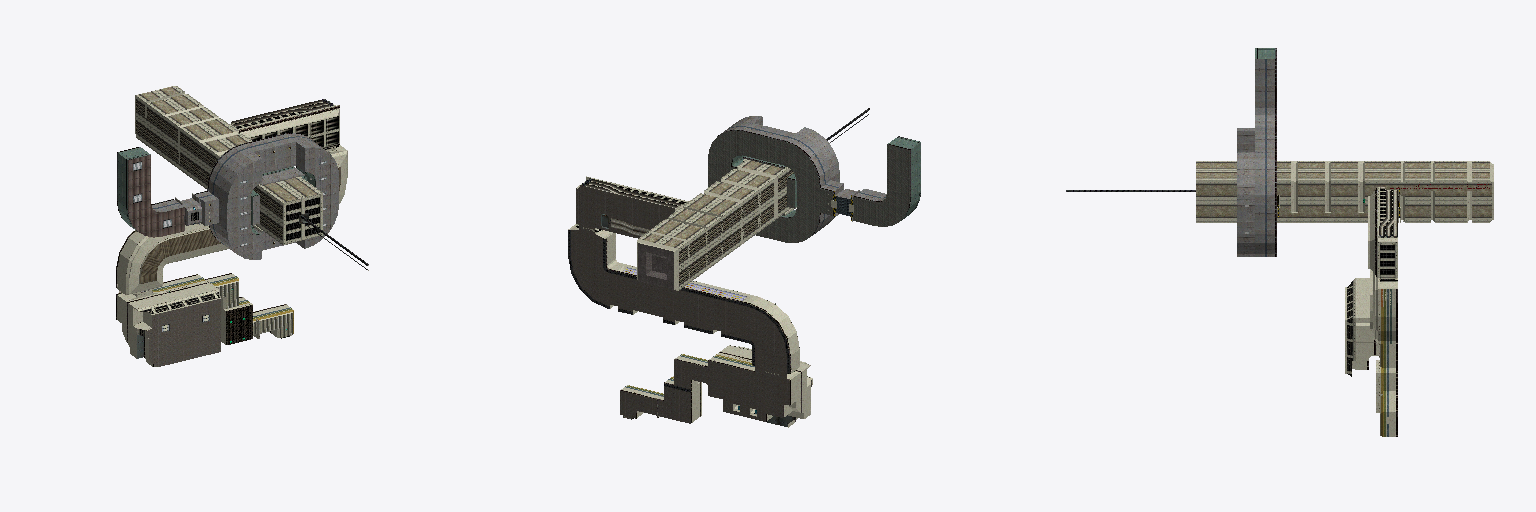
3 renders of one model, left to right at view 1: azimuth 30°, elevation 25°; view 2: azimuth 150°, elevation 25°; view 3: azimuth 270°, elevation 25°, orthographic.
Visible parts, largest first — view 1: BSP_Object.model_0; view 2: BSP_Object.model_0; view 3: BSP_Object.model_0.
Boxes of the visible parts, x1,y1,x2,y2 form: BSP_Object.model_0: [116, 86, 347, 366]; BSP_Object.model_0: [568, 116, 920, 427]; BSP_Object.model_0: [1196, 48, 1493, 436].
Bounding box in the file's own units: 2336 × 2208 × 3076.
87 materials, 86 textured.